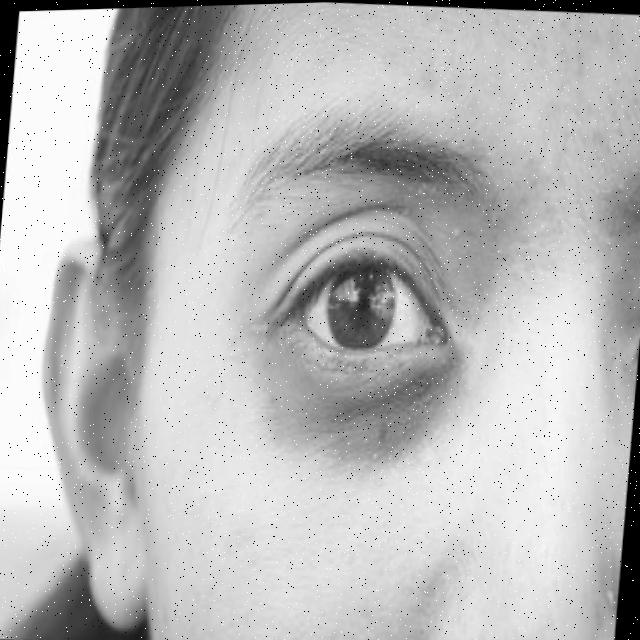puffy_eyes: (261, 334, 442, 453)
